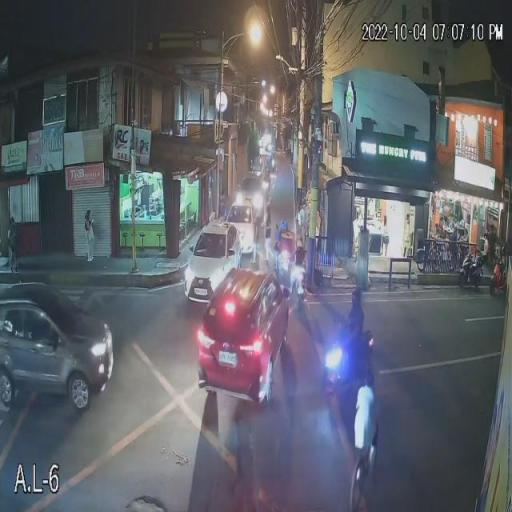helmet: (350, 288, 364, 303), (290, 246, 302, 256), (278, 220, 288, 231)
motorcycle: (322, 328, 376, 414), (346, 380, 378, 511), (279, 253, 308, 311), (458, 252, 486, 294), (490, 257, 508, 295)
rider: (332, 288, 375, 390), (274, 220, 296, 274), (486, 234, 506, 278), (287, 243, 305, 288)
